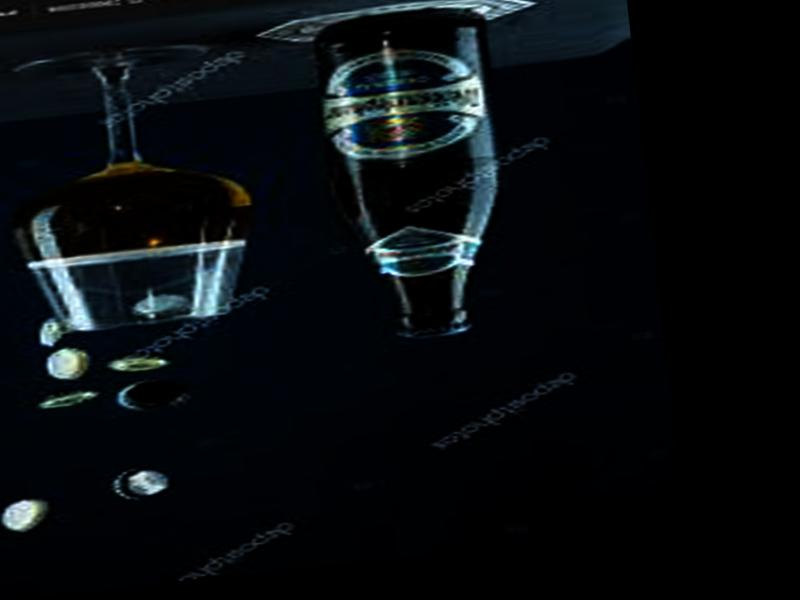Beer: (317, 7, 512, 342)
